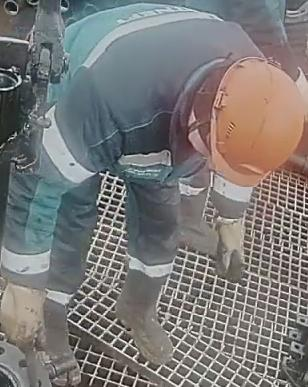gloves: (0, 282, 51, 356), (213, 215, 246, 284)
helmet: (207, 55, 305, 187)
vest: (52, 2, 268, 178)
